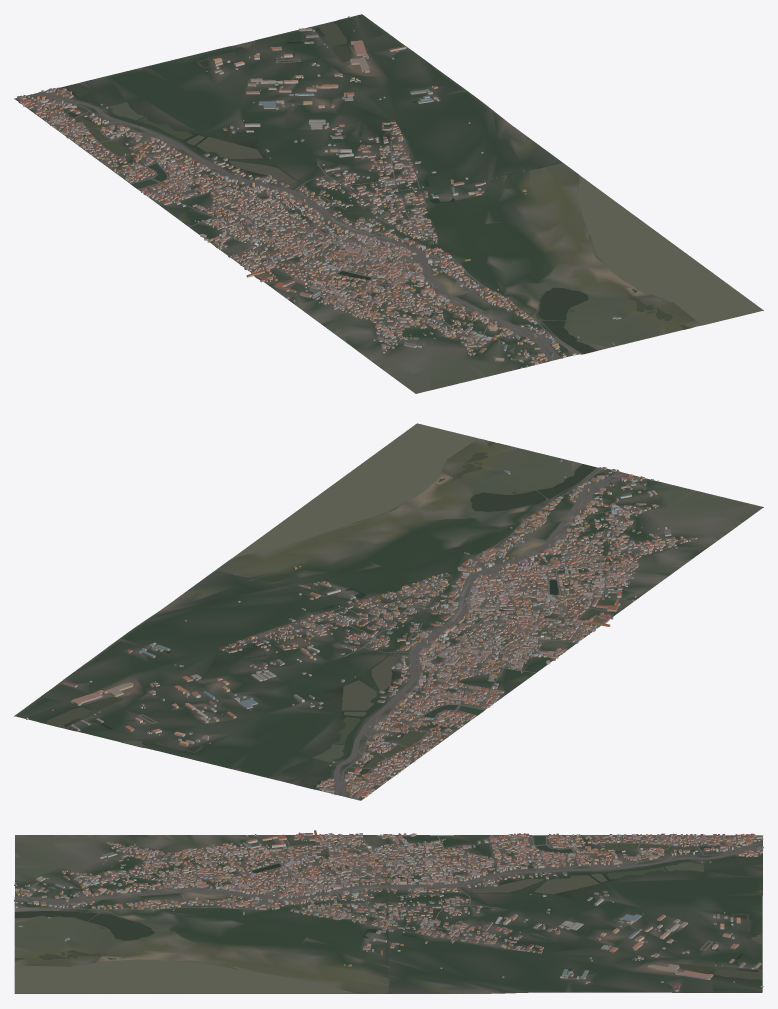
The picture shows the model from 3 angles, top to bottom: view 1: azimuth 30°, elevation 25°; view 2: azimuth 150°, elevation 25°; view 3: azimuth 270°, elevation 25°; orthographic projection. The views are drawn at different scales.
Parts seen in each view (by area): view 1: ground, buildings, water, roads; view 2: ground, buildings, water, roads; view 3: ground, buildings, water, roads.
Part boxes in pixels (x1,y1,x2,y2): ground: [14, 14, 763, 393]; buildings: [17, 16, 621, 368]; water: [63, 21, 762, 353]; roads: [29, 92, 576, 362]; ground: [14, 438, 763, 800]; buildings: [26, 460, 697, 799]; water: [42, 423, 596, 788]; roads: [256, 468, 673, 800]; ground: [14, 835, 762, 993]; buildings: [14, 830, 763, 991]; water: [14, 835, 762, 993]; roads: [14, 835, 763, 943].
Size of the model in its own units: 1431 by 25.57 by 2811.
